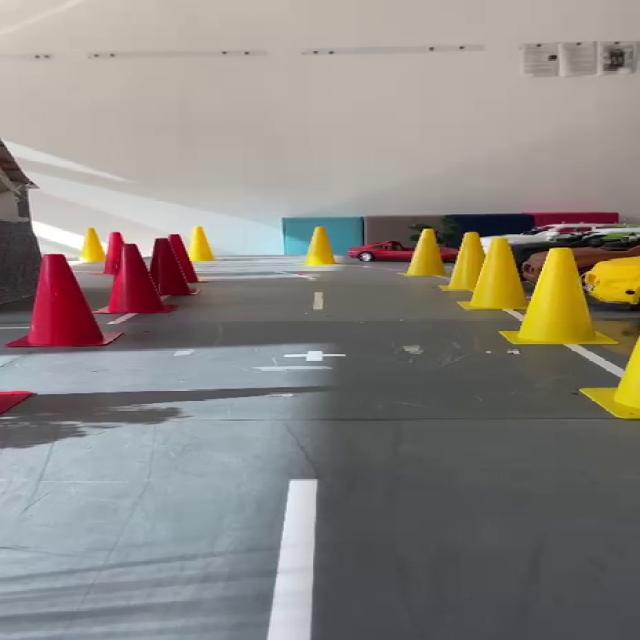Cone-red: (8, 254, 120, 346), (97, 244, 170, 315), (150, 238, 196, 297), (103, 232, 123, 276), (0, 391, 33, 415)
Cones-yellow: (461, 238, 617, 345), (581, 338, 639, 418), (441, 233, 483, 290), (406, 228, 446, 276), (305, 228, 335, 265), (188, 227, 215, 263), (81, 228, 106, 262)
